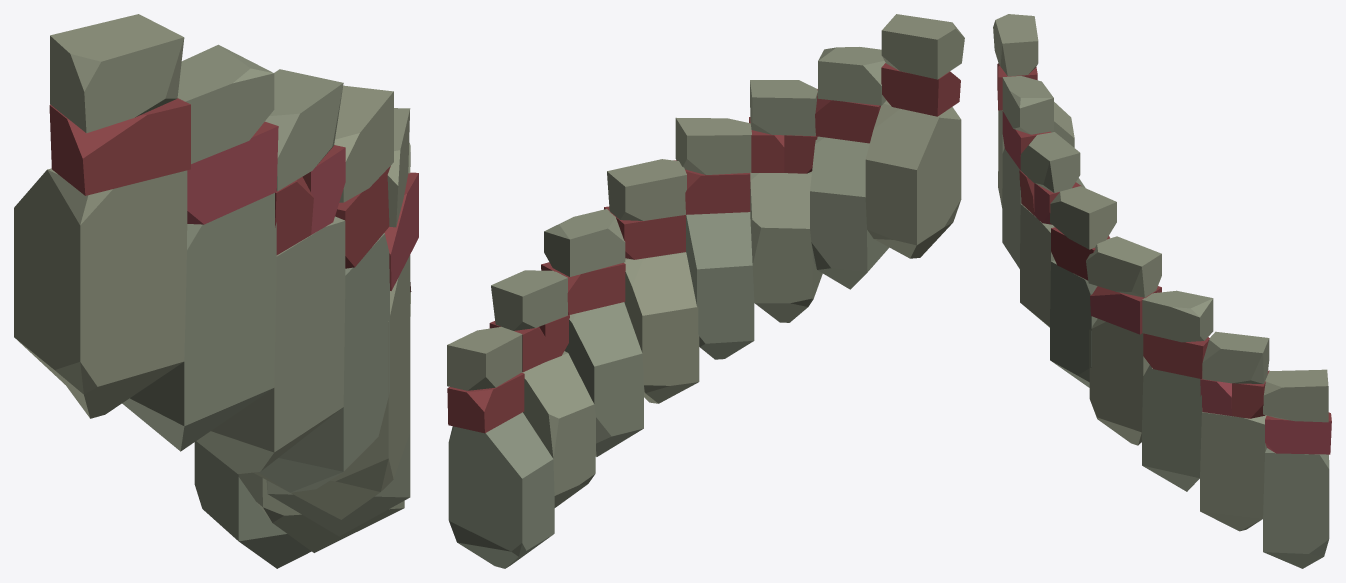
The model's file is stair_spiral_wide_railing_inside_clock.fbx.
The picture shows the model from 3 angles, left to right: view 1: azimuth 30°, elevation 25°; view 2: azimuth 150°, elevation 25°; view 3: azimuth 270°, elevation 25°; orthographic projection. The views are drawn at different scales.
Visible parts, largest first — view 1: stair_spiral_wide_railing_inside_clock; view 2: stair_spiral_wide_railing_inside_clock; view 3: stair_spiral_wide_railing_inside_clock.
Part boxes in pixels (x1=…): stair_spiral_wide_railing_inside_clock: x1=14, y1=14, x2=418, y2=568; stair_spiral_wide_railing_inside_clock: x1=447, y1=14, x2=964, y2=568; stair_spiral_wide_railing_inside_clock: x1=993, y1=14, x2=1331, y2=568.
Size of the model in its own units: 228 by 323 by 232.
